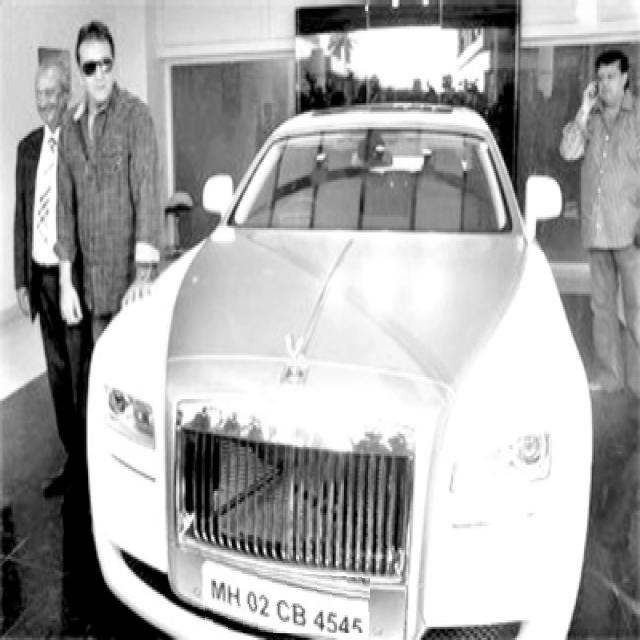licence: (204, 568, 370, 634)
